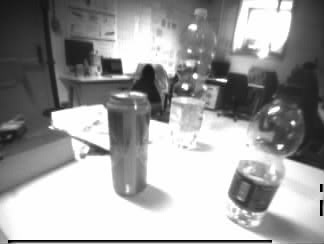Bottle: (233, 90, 296, 225), (173, 9, 204, 149)
Tin can: (109, 90, 147, 196)
